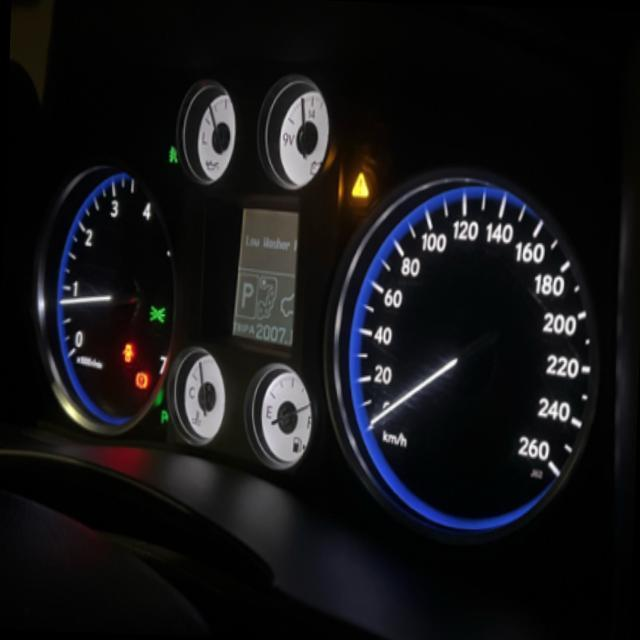Central Warning lamp: (347, 166, 372, 204)
Doors: (119, 338, 137, 367)
